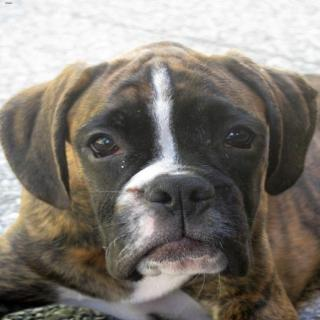dog: (0, 50, 319, 286)
nose: (136, 168, 218, 222)
